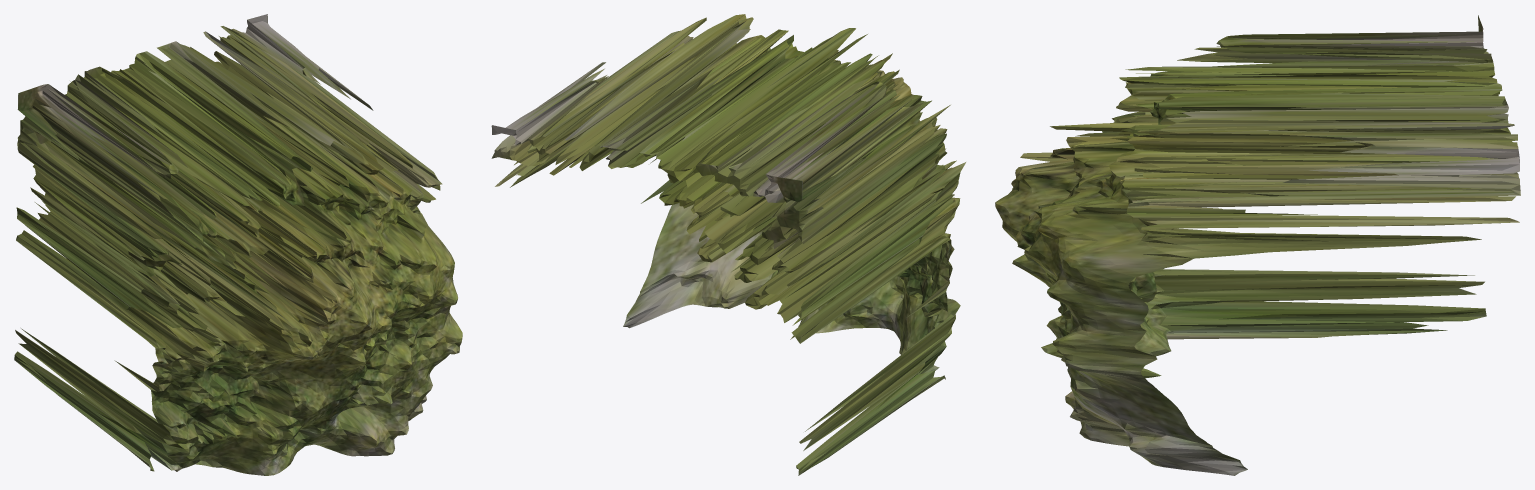
Rendered from map_10_80.obj.
3 views of the same model, side by side, from view 1: azimuth 30°, elevation 25°; view 2: azimuth 150°, elevation 25°; view 3: azimuth 270°, elevation 25° (orthographic). The views are drawn at different scales.
Visible parts, largest first — view 1: grp1; view 2: grp1; view 3: grp1.
Part boxes in pixels (x1,y1,x2,y2): grp1: [14, 14, 462, 475]; grp1: [491, 14, 965, 475]; grp1: [995, 15, 1520, 475].
Size of the model in its own units: 10 by 10 by 15.12.
Materials: 1 (1 with a texture image).
